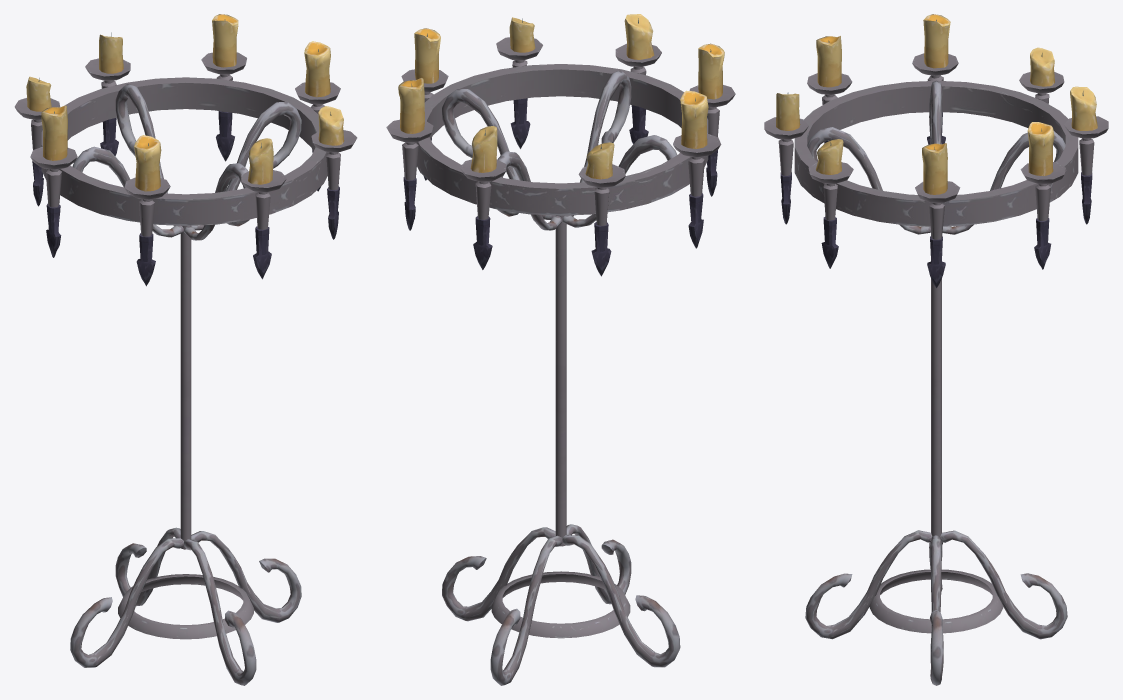
The model's file is CandleStick_Stand.gltf.
The picture shows the model from 3 angles, left to right: view 1: azimuth 30°, elevation 25°; view 2: azimuth 150°, elevation 25°; view 3: azimuth 270°, elevation 25°; orthographic projection. The views are drawn at different scales.
Parts seen in each view (by area): view 1: CandleStick_Stand; view 2: CandleStick_Stand; view 3: CandleStick_Stand.
Boxes of the visible parts, x1,y1,x2,y2 form: CandleStick_Stand: (14,14,357,685); CandleStick_Stand: (386,14,735,685); CandleStick_Stand: (764,14,1108,685).
Bounding box in the file's own units: 0.7323 × 1.31 × 0.7313.
Materials: 2 (2 with a texture image).
